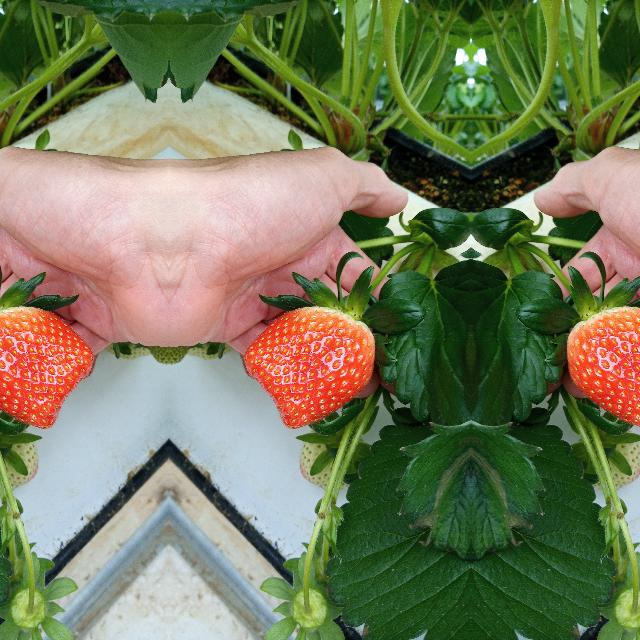Health_100: (242, 306, 374, 428), (0, 305, 94, 428), (566, 305, 640, 428)
